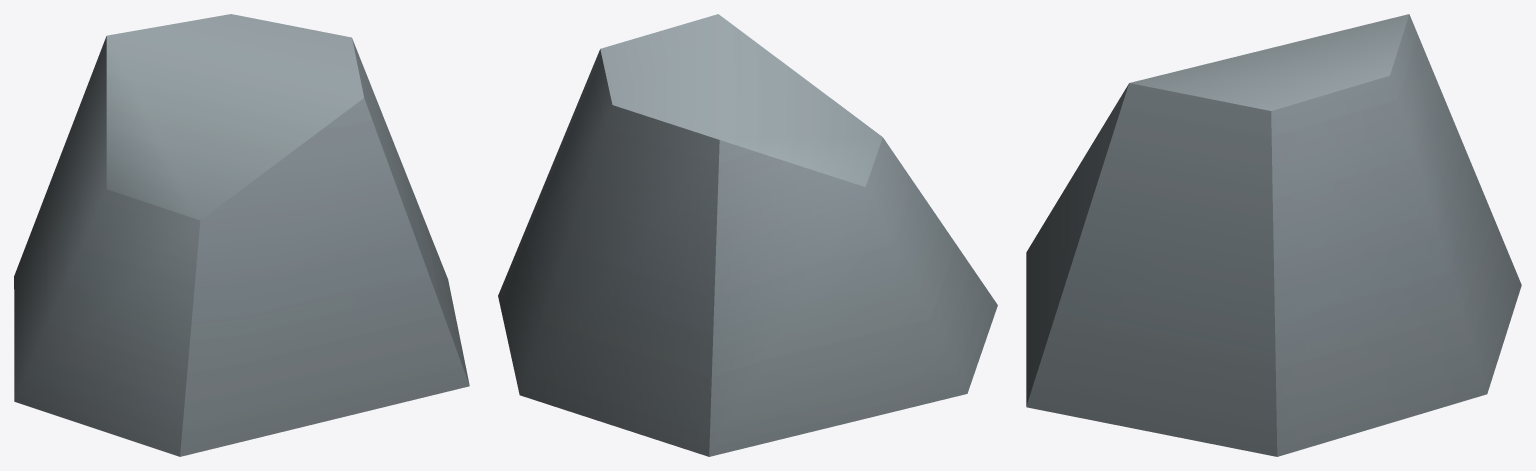
File: rock_single_D.glb
3 views of the same model, side by side, from view 1: azimuth 30°, elevation 25°; view 2: azimuth 150°, elevation 25°; view 3: azimuth 270°, elevation 25° (orthographic). The views are drawn at different scales.
Visible parts, largest first — view 1: rock_single_D; view 2: rock_single_D; view 3: rock_single_D.
Boxes of the visible parts, box(x1,y1,x2,y2) form: rock_single_D: box(14, 14, 469, 456); rock_single_D: box(498, 14, 997, 456); rock_single_D: box(1026, 14, 1521, 456).
Size of the model in its own units: 0.2866 by 0.1629 by 0.2497.
1 material, 1 textured.
